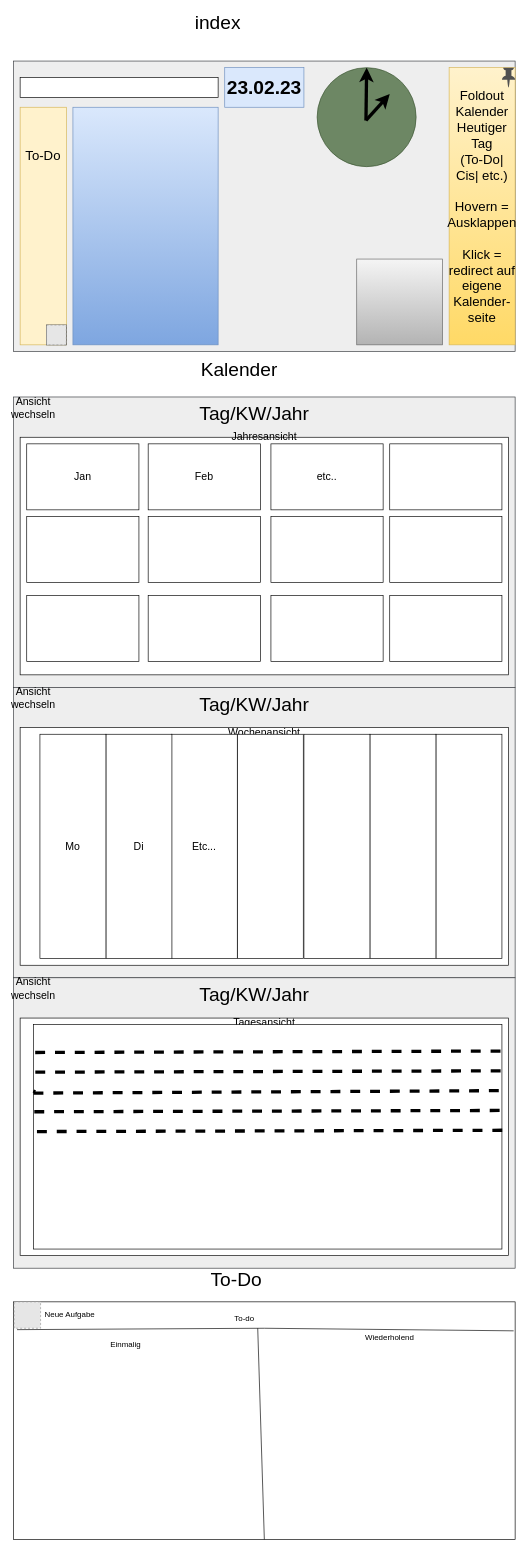
The diagram is 528 pixels wide and 1552 high, and some of its shapes have lost their labels. Grey dashed boxes stand in for pictures. The shapes that lost their labels are listed below. From the top down, each one's centre as x and y in pixels, then its label:
point (118, 87): Cis - Suche
point (145, 226): Wetter
point (399, 301): Fotos
point (267, 1136): 10:00 11:00 etc .. ..
